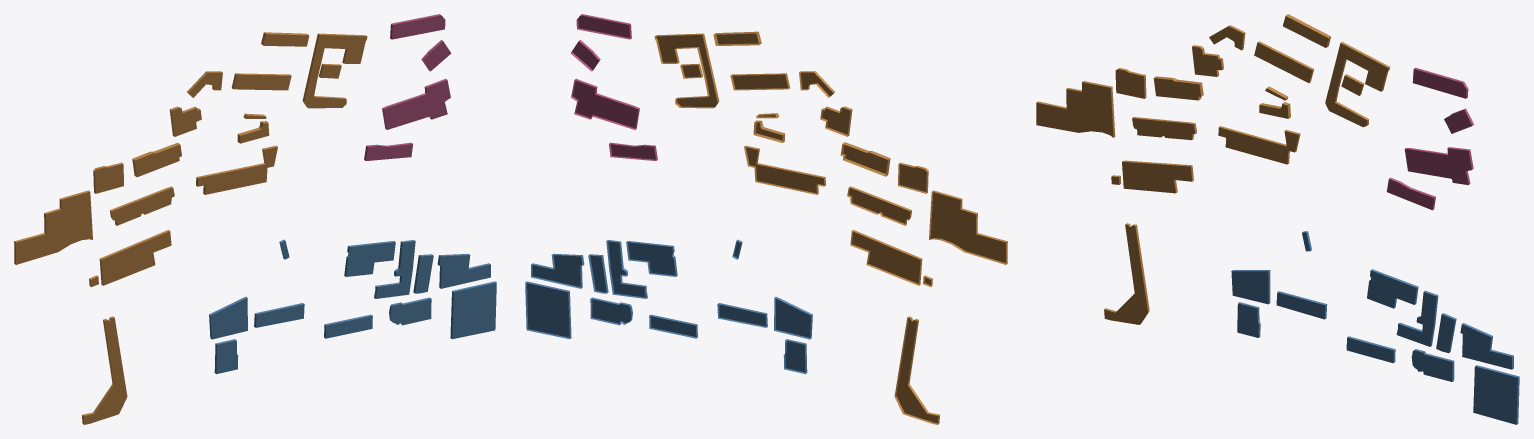
The model's file is buildings_k04.obj.
3 views of the same model, side by side, from view 1: azimuth 30°, elevation 25°; view 2: azimuth 150°, elevation 25°; view 3: azimuth 330°, elevation 25° (orthographic).
Parts seen in each view (by area): view 1: roof2, roof4, roof1, zone2, zone4, zone1; view 2: roof2, roof4, zone2, zone4, roof1, zone1; view 3: roof2, roof4, roof1, zone2, zone4, zone1.
Boxes of the visible parts, x1,y1,x2,y2 form: roof2: (16,34,367,424); roof4: (211,241,496,373); roof1: (366,15,451,160); zone2: (14,32,366,424); zone4: (209,239,496,373); zone1: (364,14,446,160); roof2: (656,33,1005,423); roof4: (527,241,810,372); zone2: (654,31,1007,424); zone4: (525,239,812,374); roof1: (572,15,655,159); zone1: (570,14,657,160); roof2: (1036,16,1388,324); roof4: (1231,232,1517,424); roof1: (1386,69,1472,210); zone2: (1036,14,1389,324); zone4: (1232,231,1519,424); zone1: (1389,67,1474,209).
Size of the model in its own units: 687 by 482 by 6.26.
